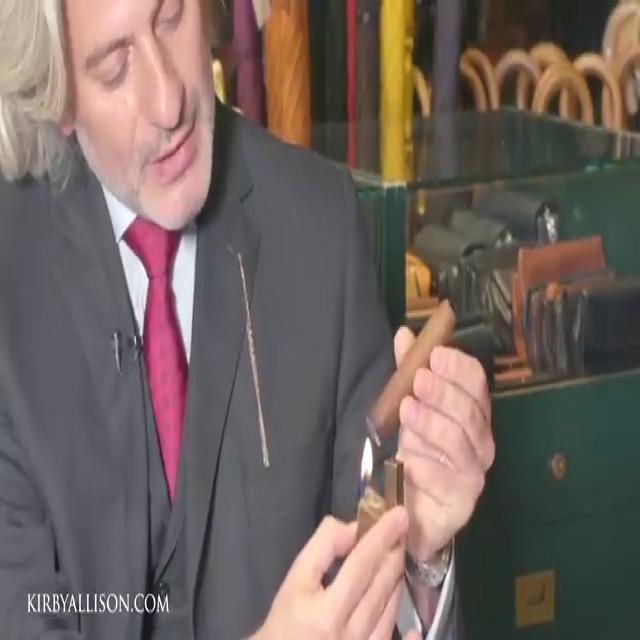Smooking: (365, 292, 475, 483)
